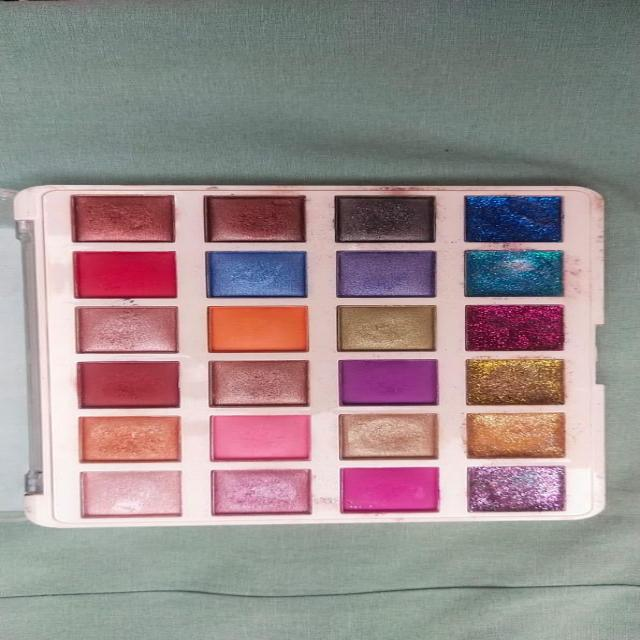eye shade: (41, 188, 590, 518)
